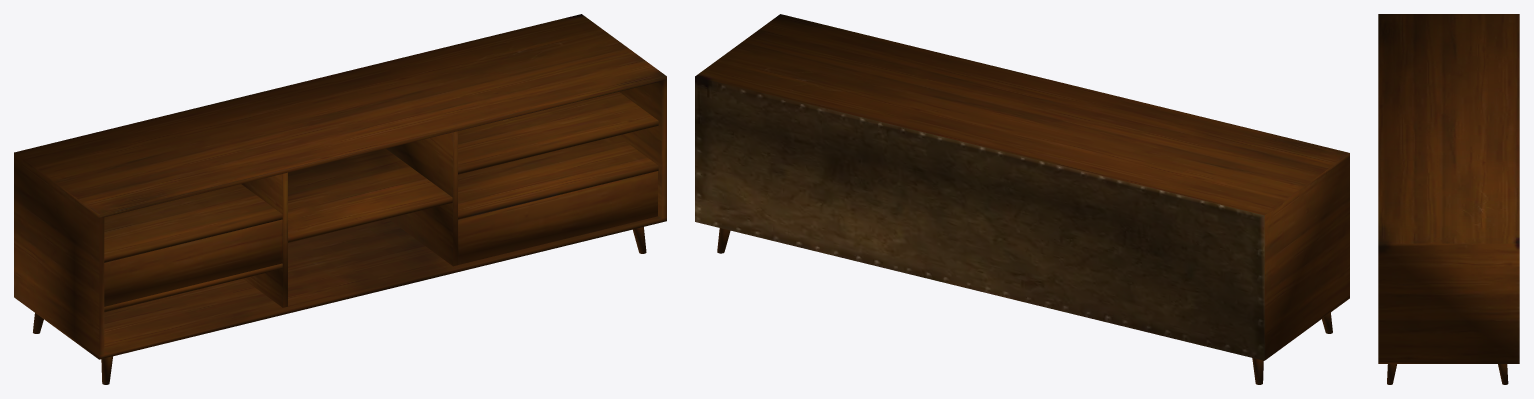
File: tv_unit_retro_stand_hellfa.glb
3 renders of one model, left to right at view 1: azimuth 30°, elevation 25°; view 2: azimuth 150°, elevation 25°; view 3: azimuth 270°, elevation 25°, orthographic. The views are drawn at different scales.
Visible parts, largest first — view 1: Object_2; view 2: Object_2; view 3: Object_2.
Part boxes in pixels (box(x1,y1,x2,y2)): Object_2: box(14, 14, 666, 384); Object_2: box(695, 14, 1349, 384); Object_2: box(1378, 14, 1519, 384).
Bounding box in the file's own units: 57.87 × 17.26 × 15.03.
1 material, 1 textured.
